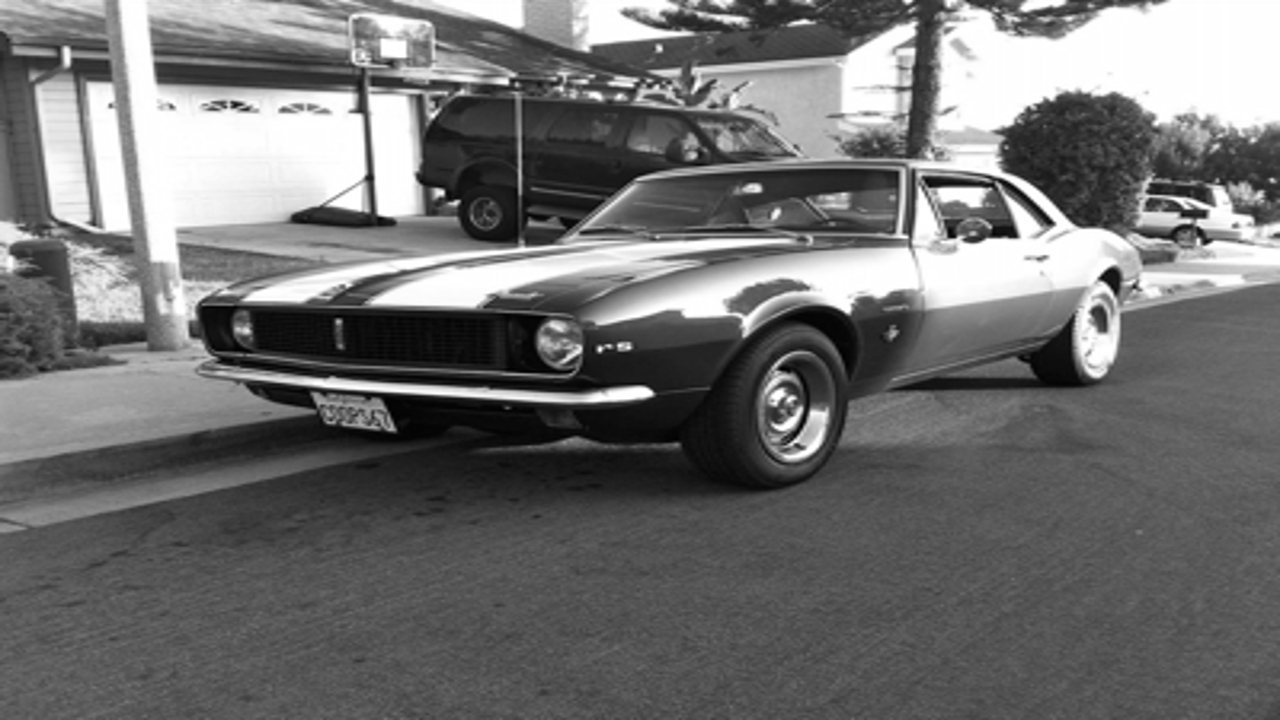license: (300, 389, 405, 439)
